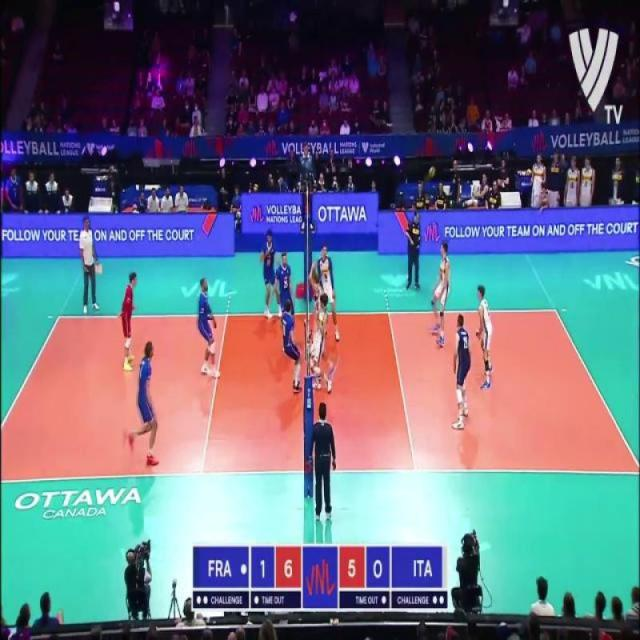volleyball: (428, 166, 436, 180)
